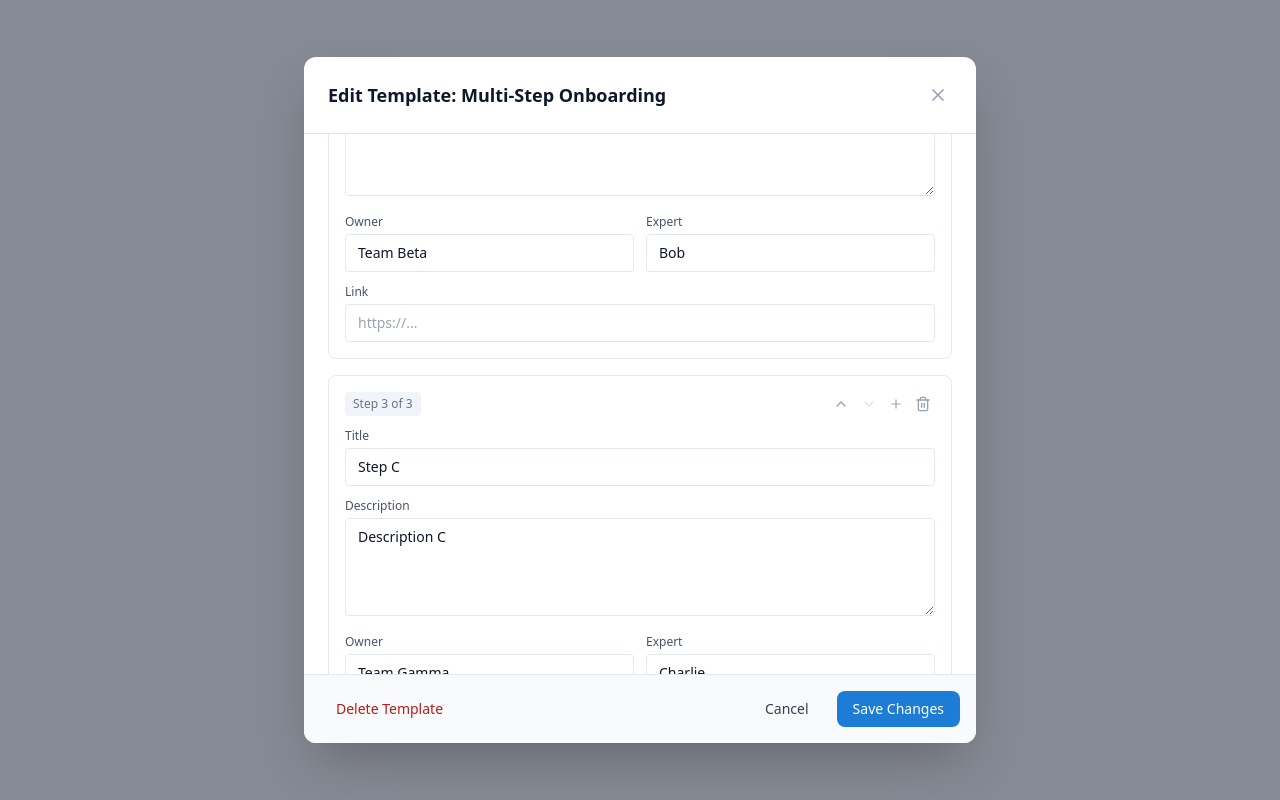
Test case: TemplateModal › TemplateModal - step count › should update step count when removing steps
This screenshot has width=1280, height=800.
(page scrolled)
Check: the field showing "Step C" is shown, box [345,448,935,486]
Click the button named "Remove step 3" at coordinates (923, 404), box [911,392,935,416]
(page scrolled)
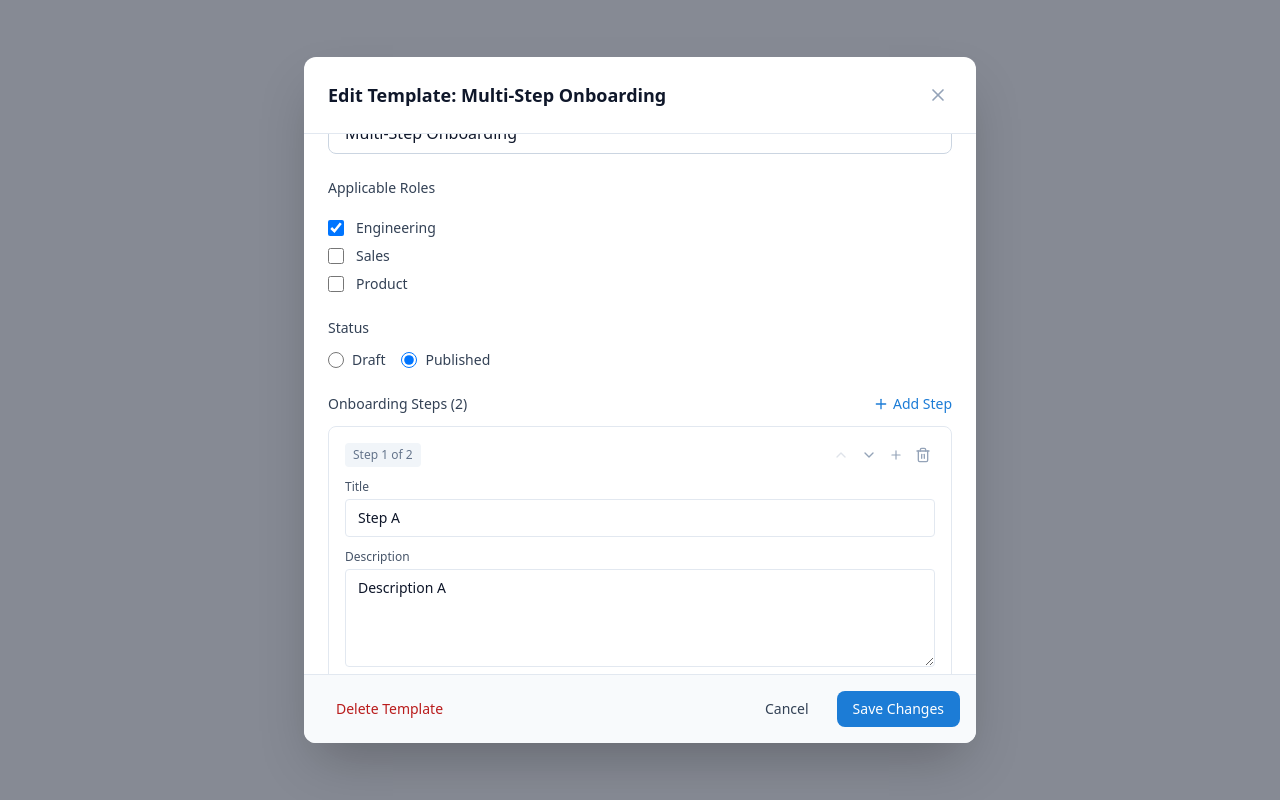
Check: the text "Onboarding Steps (2)" is shown, box [328,394,467,414]
